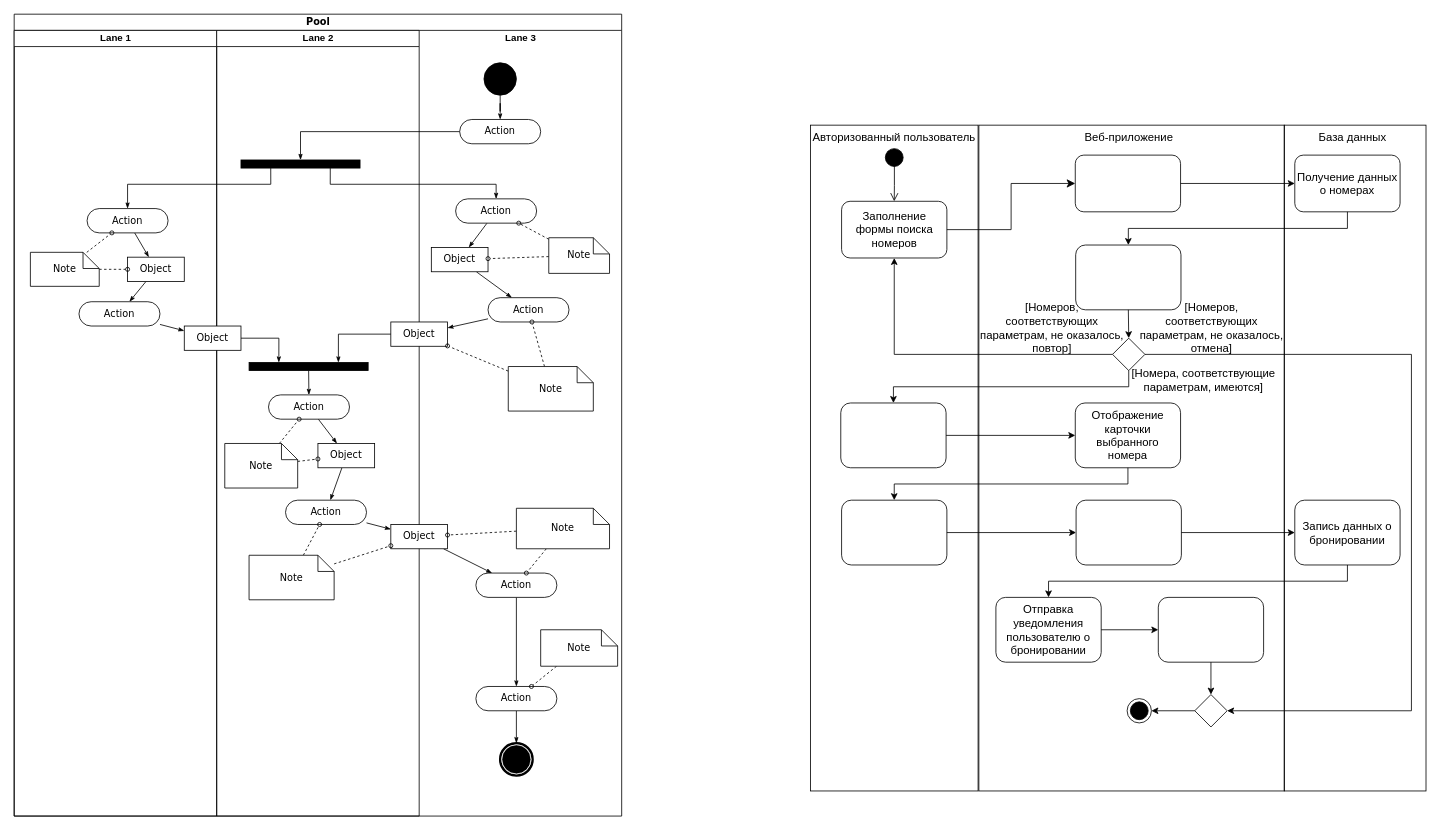
This 1440x830 diagram has some shape labels left out. Each missing label, with the centre of its shape:
Выбор понравившегося номера: (x=893, y=435)
Нажатие кнопки "Забронировать": (x=894, y=532)
Обработка запроса и запуск метода для получения данных о номерах: (x=1127, y=183)
Отображение списка номеров: (x=1128, y=277)
Отправка письма на почту с информацией о бронировании: (x=1210, y=629)
Создание заявки о бронировании номера: (x=1128, y=532)
